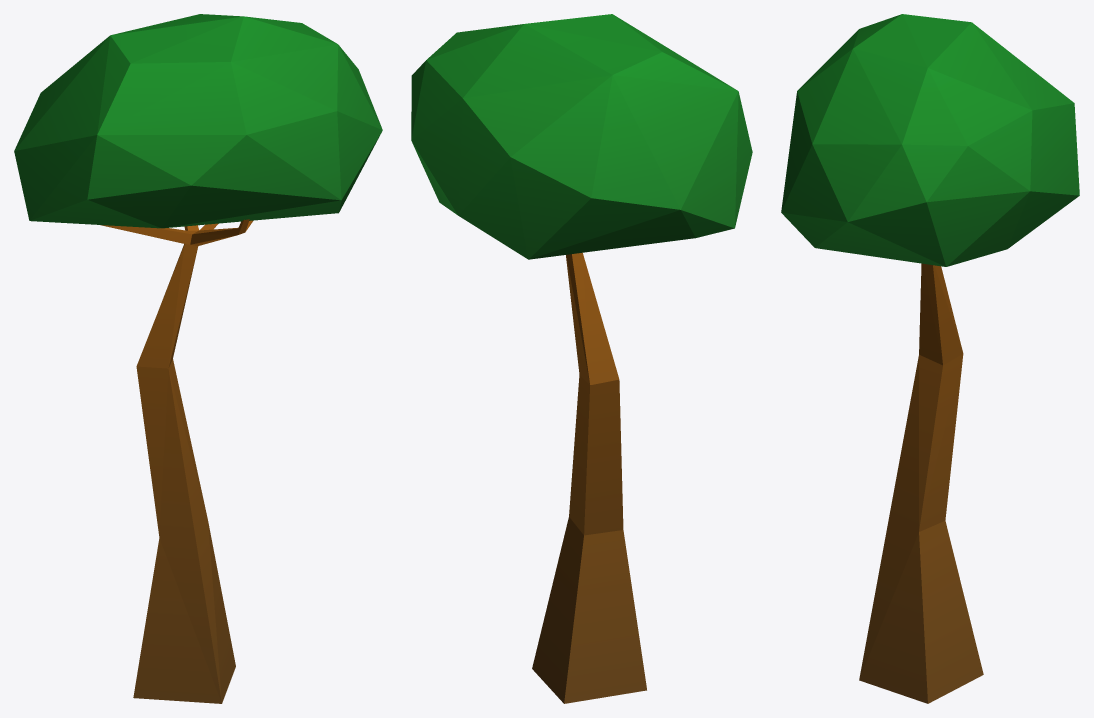
File: Tree_10.fbx
The picture shows the model from 3 angles, left to right: view 1: azimuth 30°, elevation 25°; view 2: azimuth 150°, elevation 25°; view 3: azimuth 270°, elevation 25°; orthographic projection.
Parts seen in each view (by area): view 1: Tree_10; view 2: Tree_10; view 3: Tree_10.
Boxes of the visible parts, x1,y1,x2,y2 form: Tree_10: [14, 14, 382, 703]; Tree_10: [411, 14, 752, 703]; Tree_10: [781, 14, 1079, 703].
Bounding box in the file's own units: 415 × 784 × 332.
